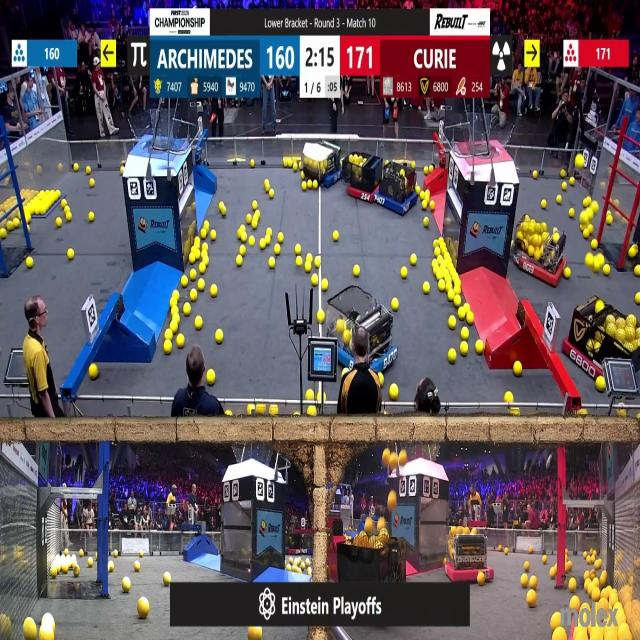ball_airborne: (591, 252, 605, 272), (26, 619, 38, 640), (579, 209, 588, 227), (386, 492, 394, 512), (249, 627, 261, 640), (574, 156, 583, 170), (398, 451, 406, 465), (383, 449, 390, 465), (587, 208, 594, 220)
ball_ground: (139, 598, 149, 618), (552, 614, 562, 630), (90, 363, 100, 378), (514, 360, 523, 376), (527, 591, 536, 607), (207, 370, 215, 386), (389, 385, 398, 399), (554, 630, 566, 640), (450, 349, 458, 363), (122, 579, 130, 593), (597, 378, 605, 392), (568, 580, 576, 594), (460, 343, 468, 357), (450, 316, 458, 329), (215, 331, 223, 344), (176, 336, 184, 349), (163, 342, 171, 355), (478, 572, 486, 585), (599, 572, 607, 585), (270, 407, 279, 418), (314, 255, 322, 267), (570, 597, 578, 609), (180, 276, 188, 288), (460, 328, 468, 340), (198, 279, 206, 291), (458, 308, 466, 320), (630, 246, 638, 258), (592, 589, 600, 601), (466, 312, 473, 325), (522, 574, 529, 587), (530, 575, 537, 588), (504, 391, 512, 402), (307, 389, 315, 400), (257, 405, 265, 416), (194, 317, 201, 329), (211, 284, 218, 296), (475, 342, 482, 354), (27, 256, 34, 268), (353, 266, 360, 278), (165, 572, 172, 584), (439, 280, 446, 292), (317, 312, 324, 324), (189, 289, 196, 301), (594, 262, 601, 274), (338, 320, 345, 332), (308, 409, 317, 418), (171, 321, 179, 331), (165, 329, 173, 339), (433, 270, 441, 280), (68, 249, 75, 260), (603, 266, 610, 277), (400, 268, 407, 279), (587, 253, 594, 264), (454, 294, 461, 305), (269, 257, 276, 268), (605, 213, 612, 224), (392, 300, 398, 312), (322, 280, 328, 292), (184, 304, 190, 316), (423, 282, 429, 294), (312, 275, 318, 287), (511, 410, 520, 418), (6, 221, 14, 230), (411, 254, 418, 264), (210, 232, 217, 242), (564, 269, 571, 279), (200, 265, 207, 275), (306, 264, 313, 274), (331, 232, 338, 242), (188, 270, 195, 280), (240, 232, 247, 242), (584, 198, 591, 208), (253, 210, 260, 220), (316, 390, 323, 400), (12, 218, 19, 228), (275, 244, 281, 255), (237, 255, 243, 266), (634, 267, 640, 278), (551, 567, 557, 578), (448, 290, 454, 301), (620, 410, 627, 419), (299, 181, 306, 190), (592, 240, 598, 250), (294, 245, 300, 255), (240, 245, 246, 255), (295, 256, 301, 266), (278, 234, 284, 244), (172, 307, 178, 317), (0, 230, 6, 240), (134, 562, 140, 572), (108, 562, 114, 572), (218, 202, 224, 212), (429, 202, 435, 212), (265, 180, 271, 190), (244, 215, 250, 225), (422, 201, 428, 211), (306, 183, 312, 193), (566, 562, 572, 572), (188, 254, 195, 262), (172, 290, 179, 298), (454, 286, 461, 294), (578, 410, 585, 418), (203, 220, 210, 228), (635, 292, 640, 303), (259, 240, 265, 249), (248, 238, 254, 247), (524, 562, 530, 571), (57, 218, 63, 227), (584, 230, 590, 239), (201, 231, 207, 240), (556, 197, 562, 206), (532, 171, 538, 180), (595, 560, 601, 569), (266, 237, 272, 246), (26, 214, 32, 223), (463, 304, 469, 313), (90, 212, 95, 222), (424, 217, 429, 227), (569, 208, 574, 218), (75, 566, 80, 576), (247, 408, 252, 418), (252, 202, 258, 210), (540, 201, 546, 209), (203, 256, 209, 264), (269, 189, 275, 197), (560, 170, 566, 178), (268, 227, 274, 235), (202, 242, 208, 250), (541, 556, 547, 564), (193, 238, 199, 246), (73, 165, 79, 173), (62, 200, 68, 208), (588, 224, 594, 232), (569, 177, 574, 186), (431, 257, 436, 266), (308, 254, 314, 261), (240, 224, 246, 231), (579, 223, 585, 230), (252, 220, 257, 228), (67, 213, 72, 221), (313, 180, 318, 188), (90, 559, 95, 567), (562, 182, 567, 190), (91, 179, 96, 187), (250, 161, 255, 169), (434, 248, 439, 256), (293, 162, 298, 170), (503, 546, 508, 554), (420, 190, 425, 198), (56, 189, 61, 197), (284, 161, 289, 169), (586, 570, 591, 578), (424, 167, 428, 176), (85, 166, 90, 173), (79, 551, 84, 558), (416, 186, 421, 193), (299, 172, 303, 180), (433, 240, 437, 248), (225, 412, 230, 418), (529, 546, 534, 552), (122, 166, 127, 172), (119, 168, 123, 175), (113, 552, 117, 558), (140, 552, 144, 558), (498, 544, 502, 550), (564, 550, 568, 556), (323, 392, 326, 400)
goal: (460, 117, 518, 158), (129, 116, 187, 152)
robot_blue: (328, 290, 398, 378), (375, 160, 418, 215), (303, 141, 343, 189)
robot_red: (566, 300, 633, 384), (513, 217, 566, 284), (443, 528, 491, 583), (344, 151, 380, 199), (284, 531, 306, 554)
